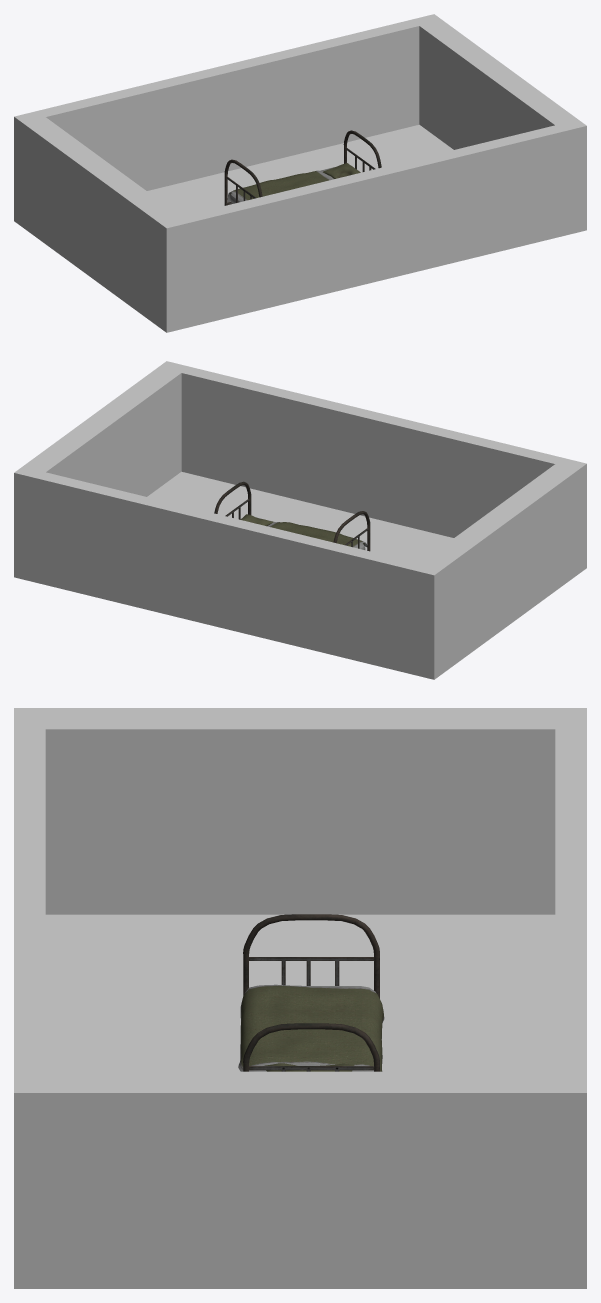
File: FULL-ROOM_1BED_ROOM_23-10.gltf
The picture shows the model from 3 angles, top to bottom: view 1: azimuth 30°, elevation 25°; view 2: azimuth 150°, elevation 25°; view 3: azimuth 270°, elevation 25°; orthographic projection. The views are drawn at different scales.
Parts seen in each view (by area): view 1: Cube.004, Object_0; view 2: Cube.004, Object_0; view 3: Cube.004, Object_0.
Boxes of the visible parts, x1,y1,x2,y2 form: Cube.004: [14, 14, 586, 332]; Object_0: [224, 130, 381, 205]; Cube.004: [14, 361, 586, 679]; Object_0: [214, 481, 370, 551]; Cube.004: [14, 708, 586, 1288]; Object_0: [238, 914, 384, 1071].
Bounding box in the file's own units: 2.06 × 0.4897 × 1.3.
